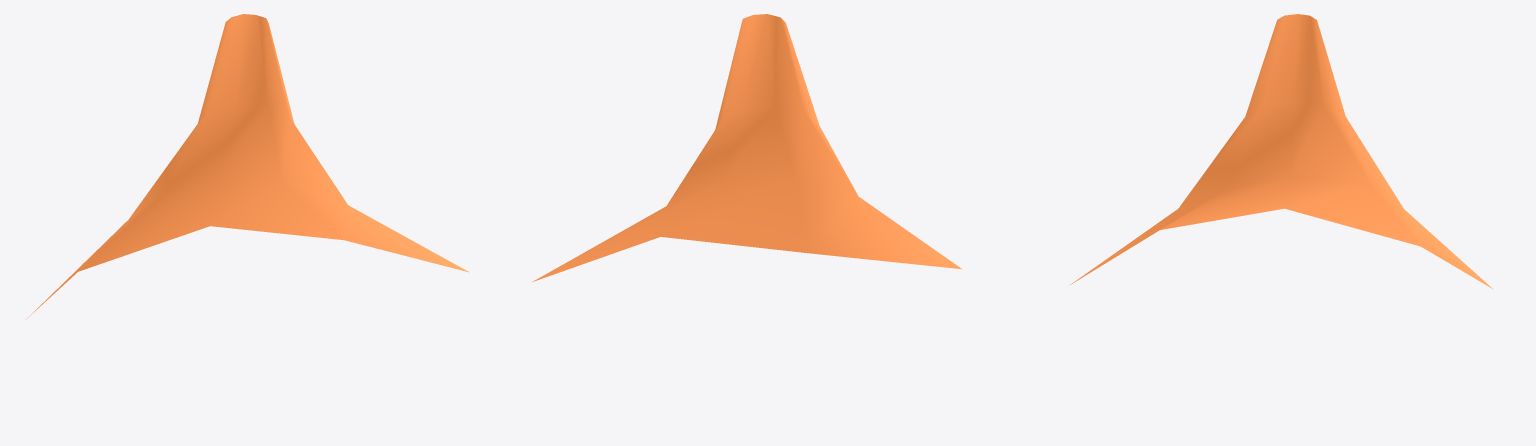
Rendered from prop-volcano-08.glb.
3 views of the same model, side by side, from view 1: azimuth 30°, elevation 25°; view 2: azimuth 150°, elevation 25°; view 3: azimuth 270°, elevation 25° (orthographic). The views are drawn at different scales.
Visible parts, largest first — view 1: volcano; view 2: volcano; view 3: volcano.
Part boxes in pixels (x1,y1,x2,y2): volcano: [26, 14, 469, 319]; volcano: [532, 14, 961, 281]; volcano: [1069, 14, 1493, 289].
Size of the model in its own units: 1.59 by 1 by 1.37.
